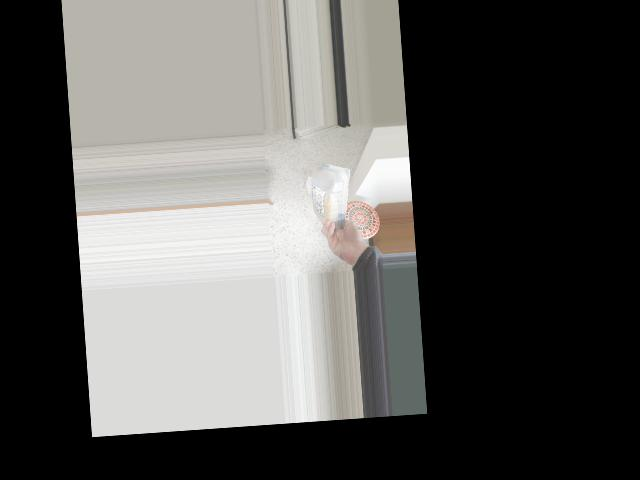cheese: (309, 161, 350, 229)
